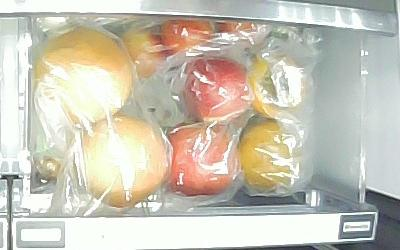apple_vinyl: (161, 120, 240, 198), (181, 57, 250, 121)
grapefruit_vinyl: (35, 28, 135, 123), (79, 113, 171, 208)
persimmon_vinyl: (240, 120, 306, 193), (248, 53, 311, 119)
prune_vinyl: (120, 29, 170, 78), (159, 18, 216, 58)
